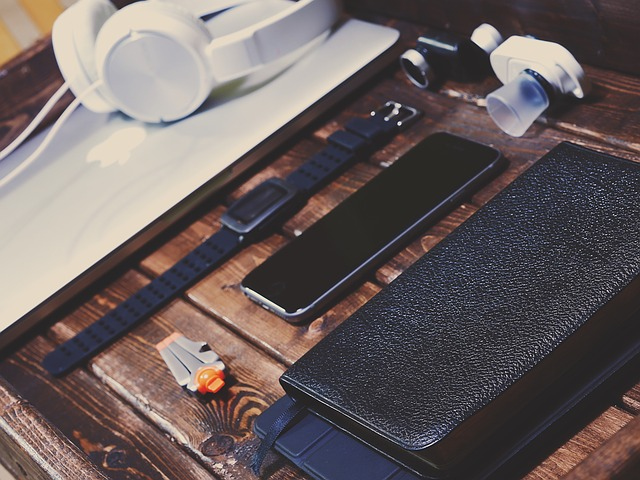headphones: (53, 1, 338, 124)
